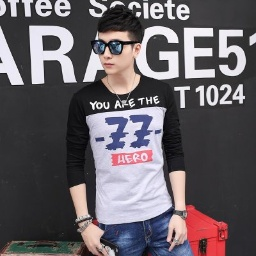face: (95, 4, 144, 73)
